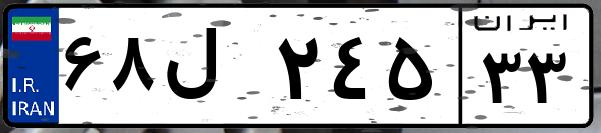2: (270, 28, 330, 110)
3: (475, 38, 525, 113), (525, 38, 570, 115)
4: (330, 28, 385, 110)
5: (385, 28, 445, 110)
6: (57, 26, 110, 100)
8: (110, 28, 158, 98)
ل: (158, 20, 270, 120)
